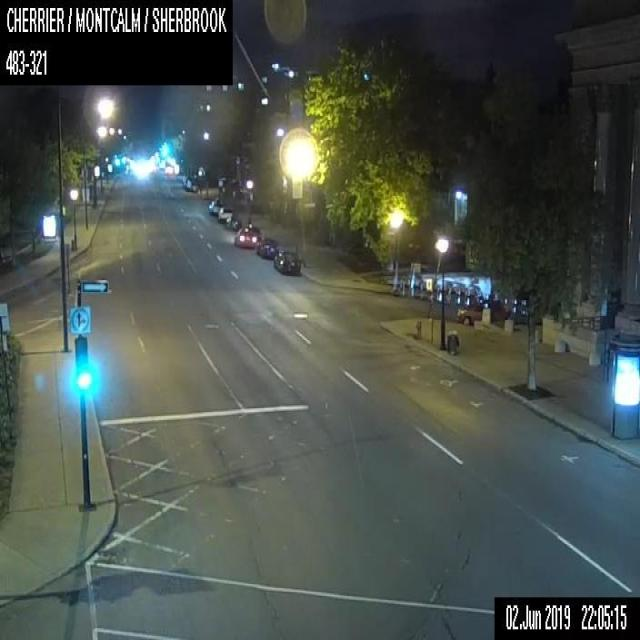vehicle: (457, 299, 511, 324), (273, 249, 301, 275), (253, 237, 279, 259), (234, 226, 256, 247), (207, 196, 222, 214), (218, 205, 232, 222)
